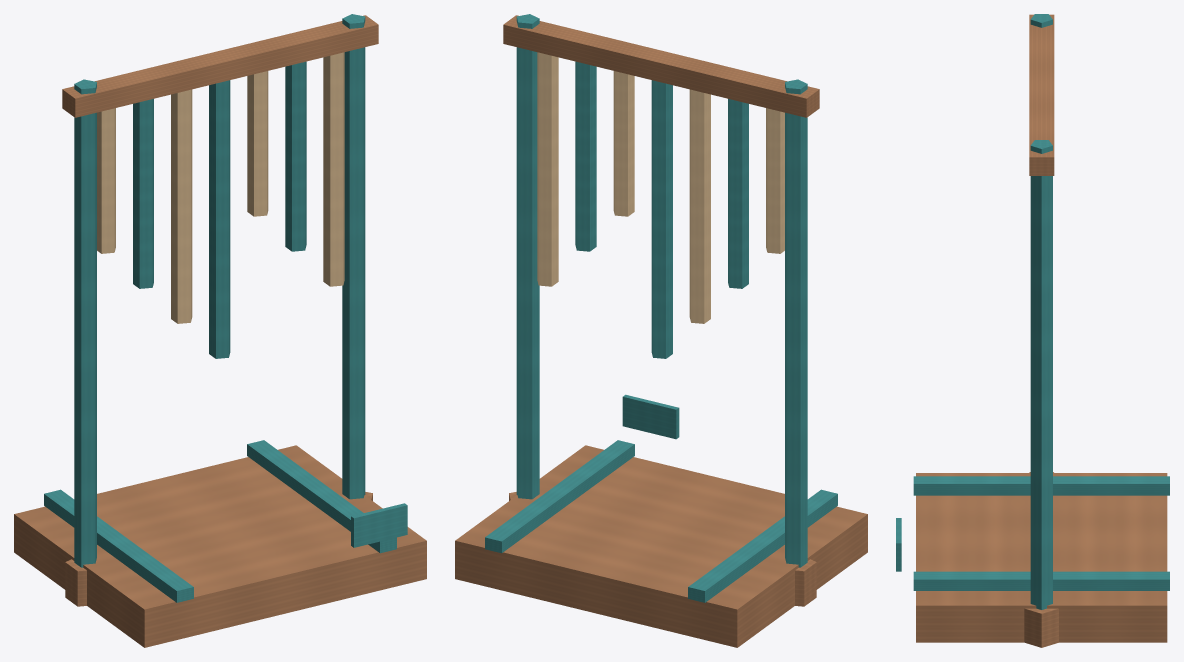
Rendered from atlas100-s099-a01.lod1.glb.
3 renders of one model, left to right at view 1: azimuth 30°, elevation 25°; view 2: azimuth 150°, elevation 25°; view 3: azimuth 270°, elevation 25°, orthographic. The views are drawn at different scales.
Parts seen in each view (by area): view 1: atlas100-s099-a01:part-000, atlas100-s099-a01:part-003, atlas100-s099-a01:part-005, atlas100-s099-a01:part-007, atlas100-s099-a01:part-011, atlas100-s099-a01:part-010, atlas100-s099-a01:part-014, atlas100-s099-a01:part-013, atlas100-s099-a01:part-009, atlas100-s099-a01:part-001, atlas100-s099-a01:part-002, atlas100-s099-a01:part-012 (+3 smaller); view 2: atlas100-s099-a01:part-000, atlas100-s099-a01:part-003, atlas100-s099-a01:part-005, atlas100-s099-a01:part-007, atlas100-s099-a01:part-011, atlas100-s099-a01:part-010, atlas100-s099-a01:part-014, atlas100-s099-a01:part-013, atlas100-s099-a01:part-002, atlas100-s099-a01:part-009, atlas100-s099-a01:part-001, atlas100-s099-a01:part-012 (+3 smaller); view 3: atlas100-s099-a01:part-000, atlas100-s099-a01:part-005, atlas100-s099-a01:part-001, atlas100-s099-a01:part-002, atlas100-s099-a01:part-007, atlas100-s099-a01:part-006.
Boxes of the visible parts, left/top/right/bottom form: atlas100-s099-a01:part-000: left=14, top=445, right=426, bottom=647; atlas100-s099-a01:part-003: left=74, top=79, right=96, bottom=567; atlas100-s099-a01:part-005: left=342, top=14, right=365, bottom=499; atlas100-s099-a01:part-007: left=62, top=15, right=378, bottom=117; atlas100-s099-a01:part-011: left=209, top=80, right=230, bottom=358; atlas100-s099-a01:part-010: left=171, top=89, right=192, bottom=323; atlas100-s099-a01:part-014: left=323, top=52, right=344, bottom=286; atlas100-s099-a01:part-013: left=285, top=61, right=306, bottom=251; atlas100-s099-a01:part-009: left=133, top=99, right=153, bottom=288; atlas100-s099-a01:part-001: left=44, top=489, right=193, bottom=602; atlas100-s099-a01:part-002: left=247, top=440, right=396, bottom=553; atlas100-s099-a01:part-012: left=247, top=71, right=268, bottom=216; atlas100-s099-a01:part-000: left=455, top=445, right=867, bottom=647; atlas100-s099-a01:part-003: left=785, top=79, right=807, bottom=567; atlas100-s099-a01:part-005: left=516, top=14, right=539, bottom=499; atlas100-s099-a01:part-007: left=503, top=15, right=819, bottom=117; atlas100-s099-a01:part-011: left=651, top=80, right=672, bottom=358; atlas100-s099-a01:part-010: left=689, top=89, right=710, bottom=323; atlas100-s099-a01:part-014: left=537, top=52, right=558, bottom=286; atlas100-s099-a01:part-013: left=575, top=61, right=596, bottom=251; atlas100-s099-a01:part-002: left=485, top=440, right=634, bottom=553; atlas100-s099-a01:part-009: left=728, top=99, right=748, bottom=288; atlas100-s099-a01:part-001: left=688, top=489, right=837, bottom=602; atlas100-s099-a01:part-012: left=613, top=71, right=634, bottom=216; atlas100-s099-a01:part-000: left=916, top=473, right=1167, bottom=642; atlas100-s099-a01:part-005: left=1030, top=140, right=1052, bottom=609; atlas100-s099-a01:part-001: left=913, top=476, right=1169, bottom=495; atlas100-s099-a01:part-002: left=913, top=571, right=1169, bottom=590; atlas100-s099-a01:part-007: left=1029, top=14, right=1054, bottom=175; atlas100-s099-a01:part-006: left=1024, top=608, right=1058, bottom=647.
Bounding box in the file's own units: 2.16 × 3.48 × 1.74.
Materials: 3 (3 with a texture image).
